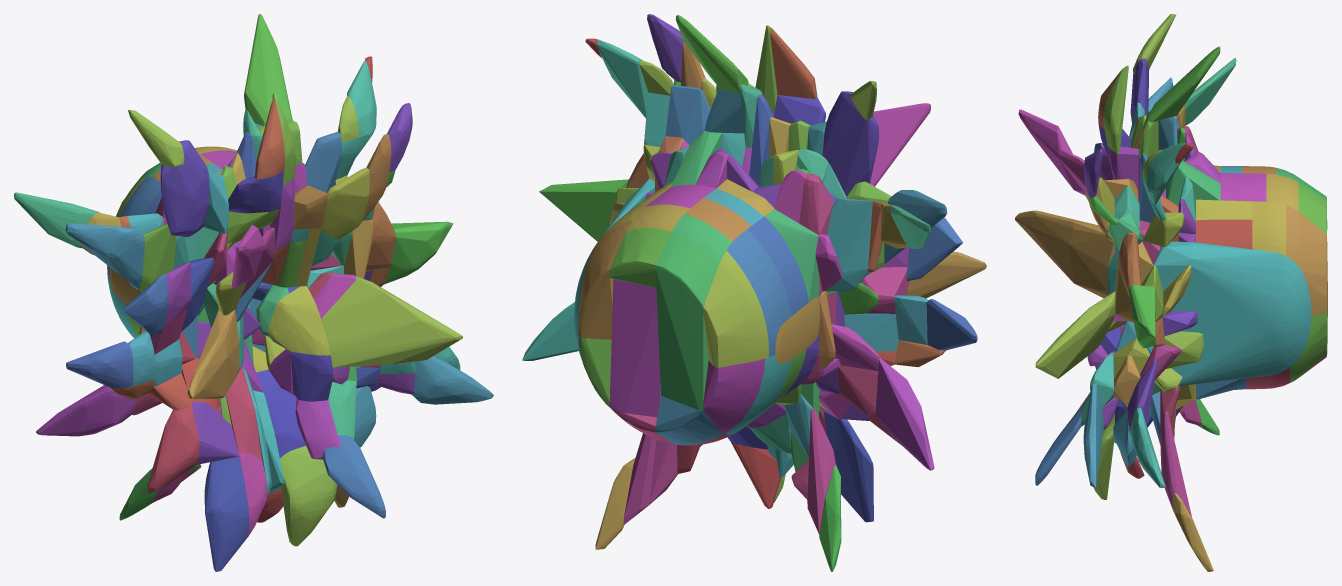
File: hulls.glb
3 views of the same model, side by side, from view 1: azimuth 30°, elevation 25°; view 2: azimuth 150°, elevation 25°; view 3: azimuth 270°, elevation 25° (orthographic). The views are drawn at different scales.
Bounding box in the file's own units: 0.5902 × 0.7028 × 0.4087.
